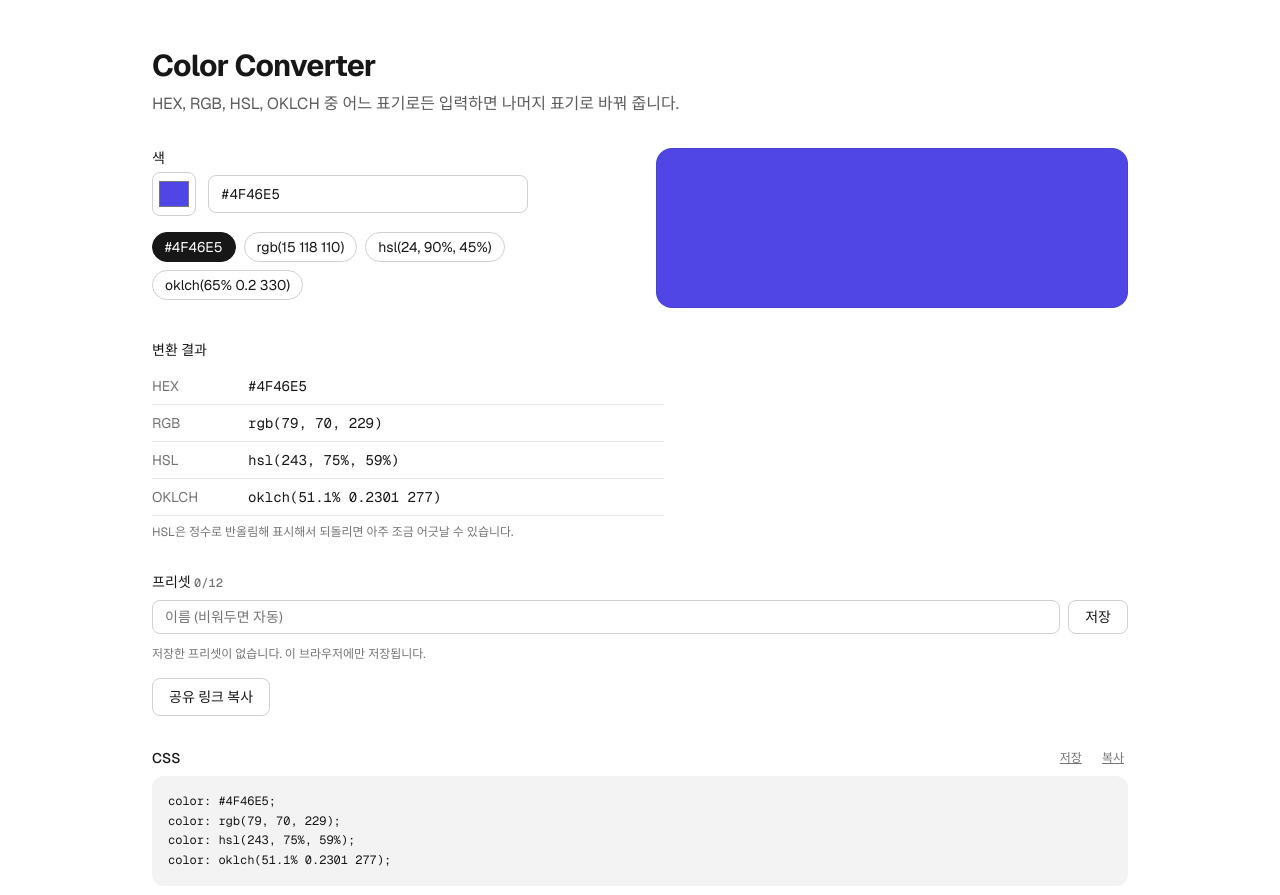
it: ColorConverter › 다른 표기로 입력하면 결과가 바뀐다
The image size is (1280, 895).
Replace the text in the field labelled "색" with "hsl(0, 100%, 50%)": (368, 194) [208,175,528,213]
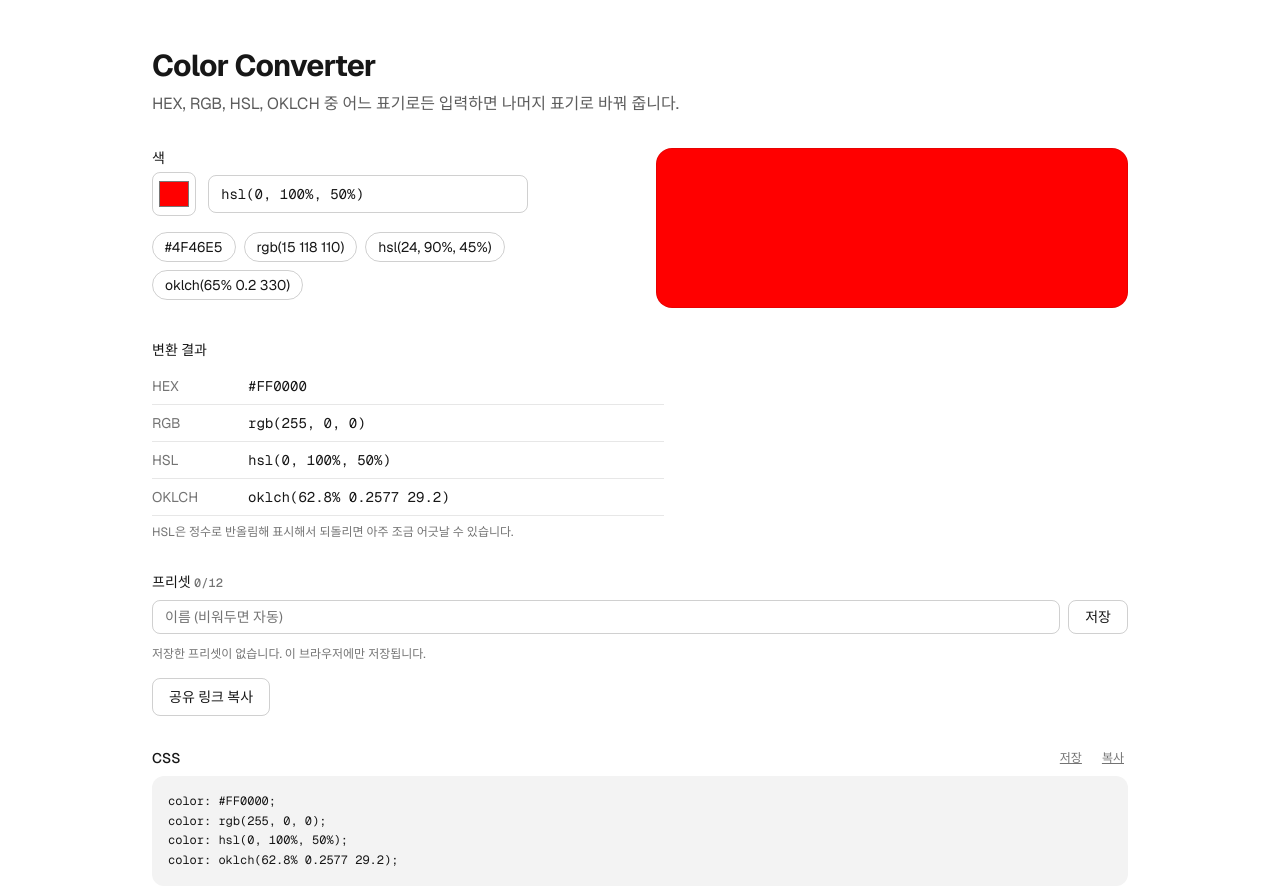
Result: the text named "CSS 코드" shows "color: #FF0000;" at [168,793,398,868]
